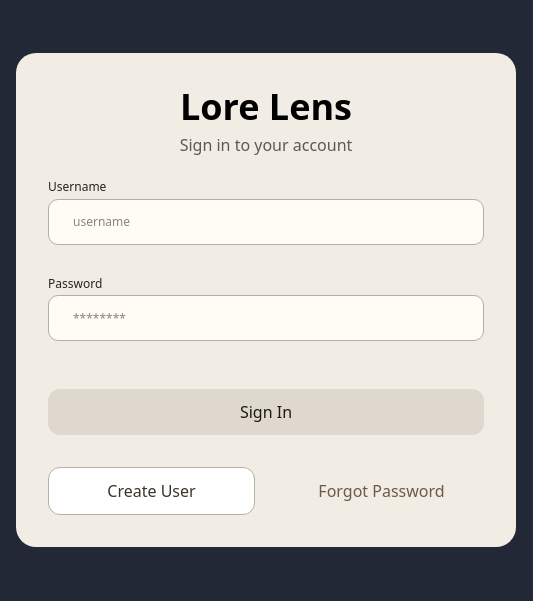
Test: LoginPage › error handling › shows the generic message on a server error and does not navigate
Type "lakhaniejaaz" into the field labelled "Username" at (266, 222), box [48,199,484,245]
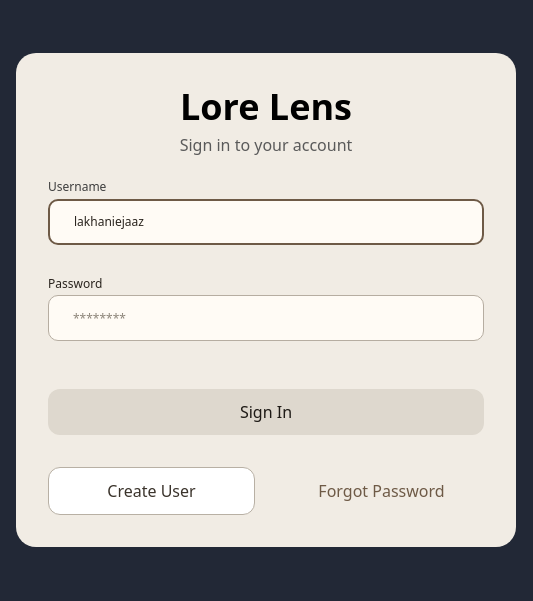
Type "strongPassword" into the password field labelled "Password" at (266, 318), box [48,295,484,341]
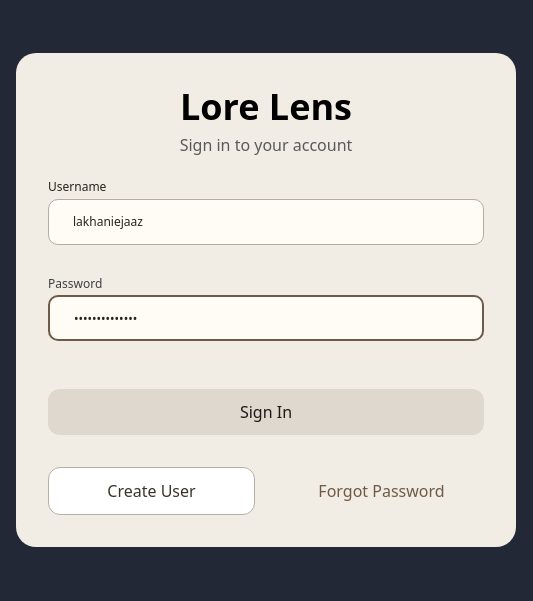
Click the button "Sign In" at (266, 412), box [48,389,484,435]
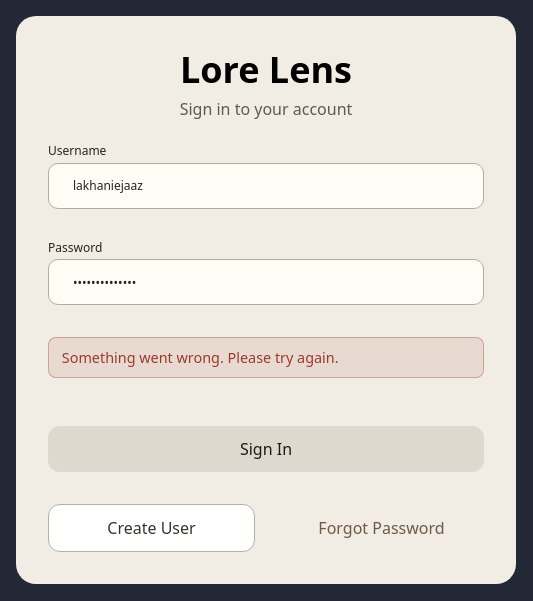
Check: the message reads "Something went wrong. Please try again.", box [62,348,339,367]
